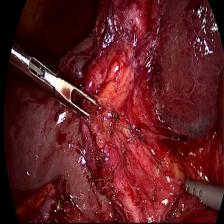Grasper: (42, 69, 100, 130)
Irrigator: (183, 174, 217, 212)
